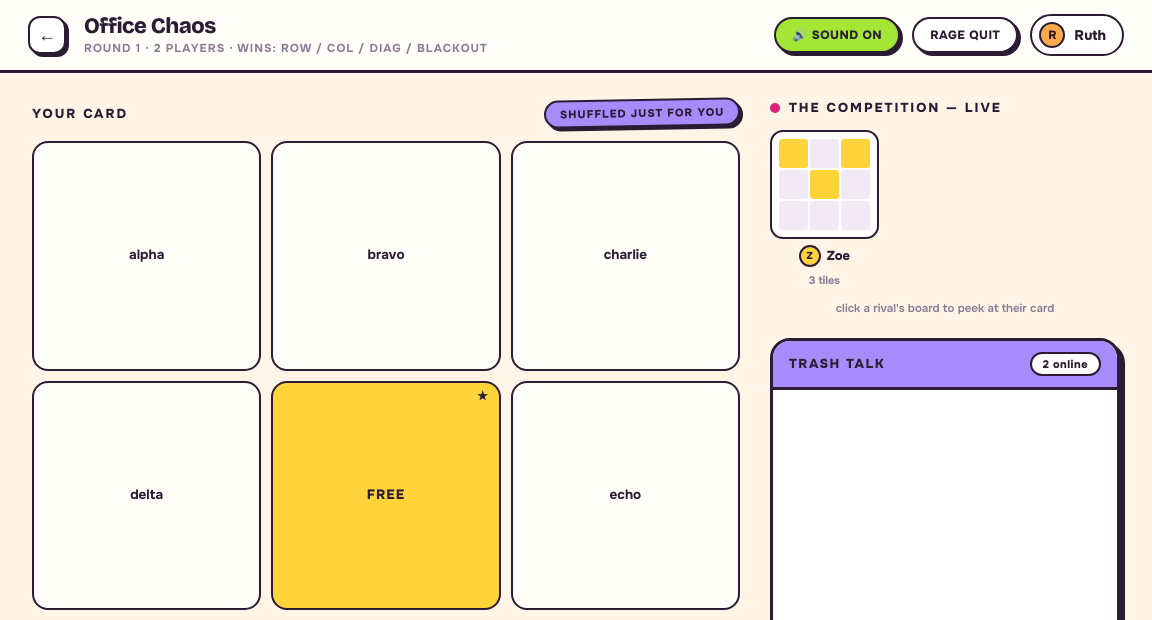
Test case: gameplay screen › shows rival mini-boards with tile counts and opens the peek card
Click the button "Z Zoe 3 tiles": (824, 209) [770,130,879,287]
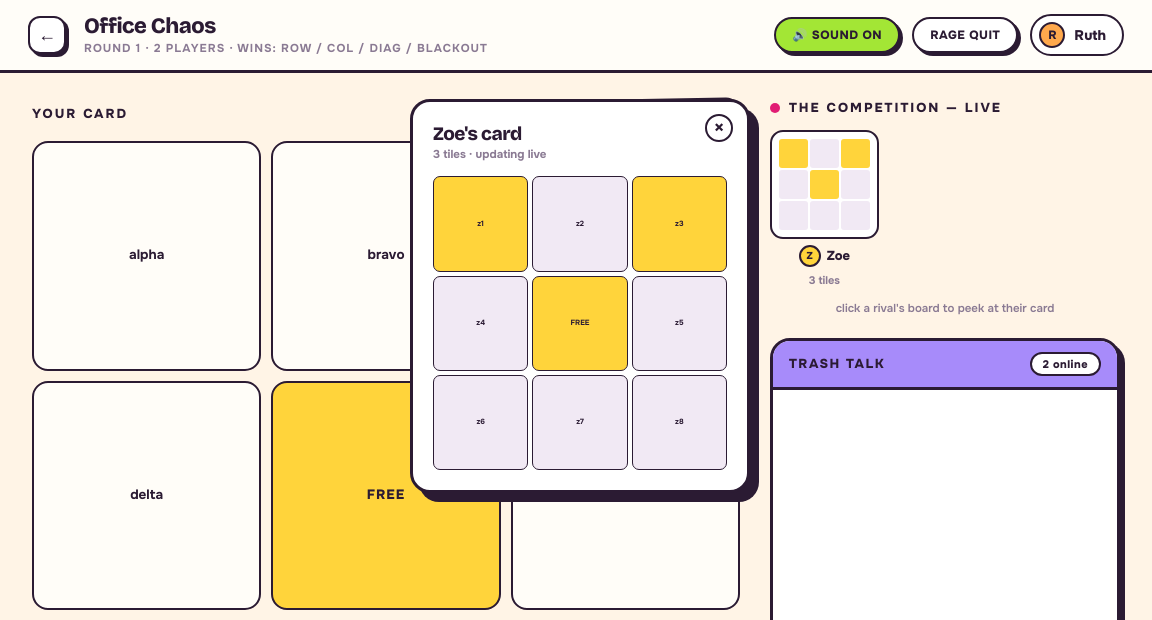
Expected: the heading "Zoe's card" is shown, [433,122,522,145]
Expected: the text "3 tiles · updating live" is shown, [433,147,546,162]
Expected: the text "z1" is shown, [433,176,528,272]
Click the button named "Close peek": (719, 128) [705,114,733,142]
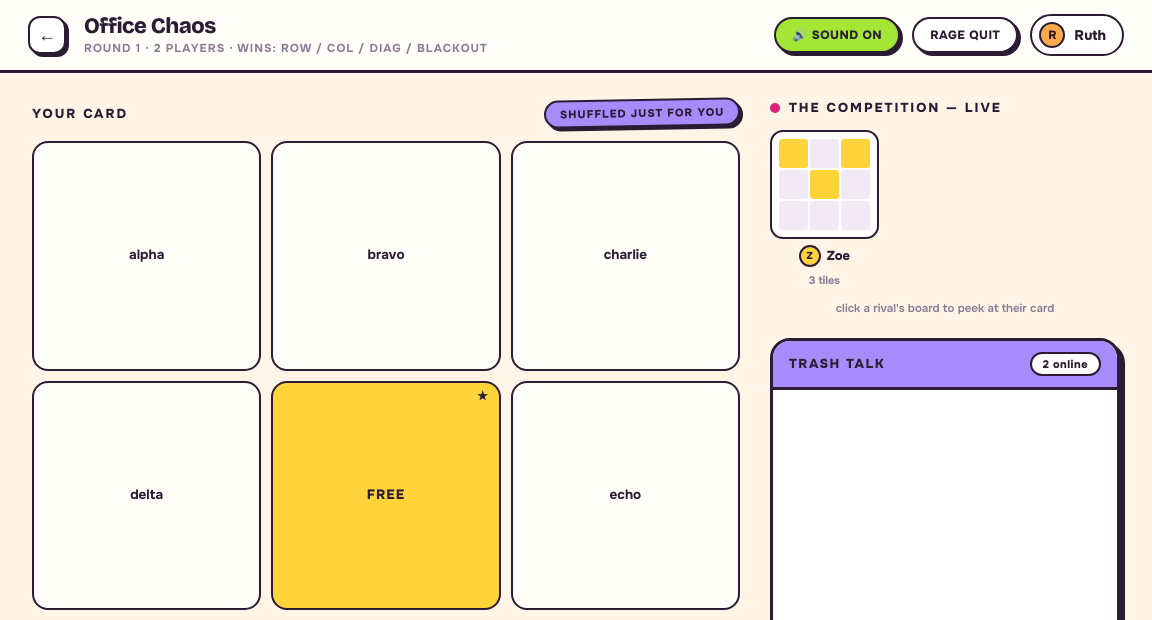
Expected: the heading "Zoe's card" is gone
